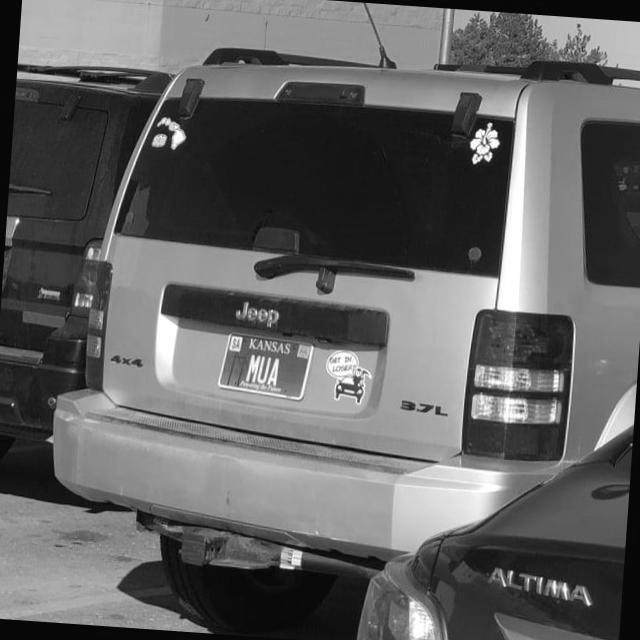LicensePlate: (214, 329, 314, 400)
